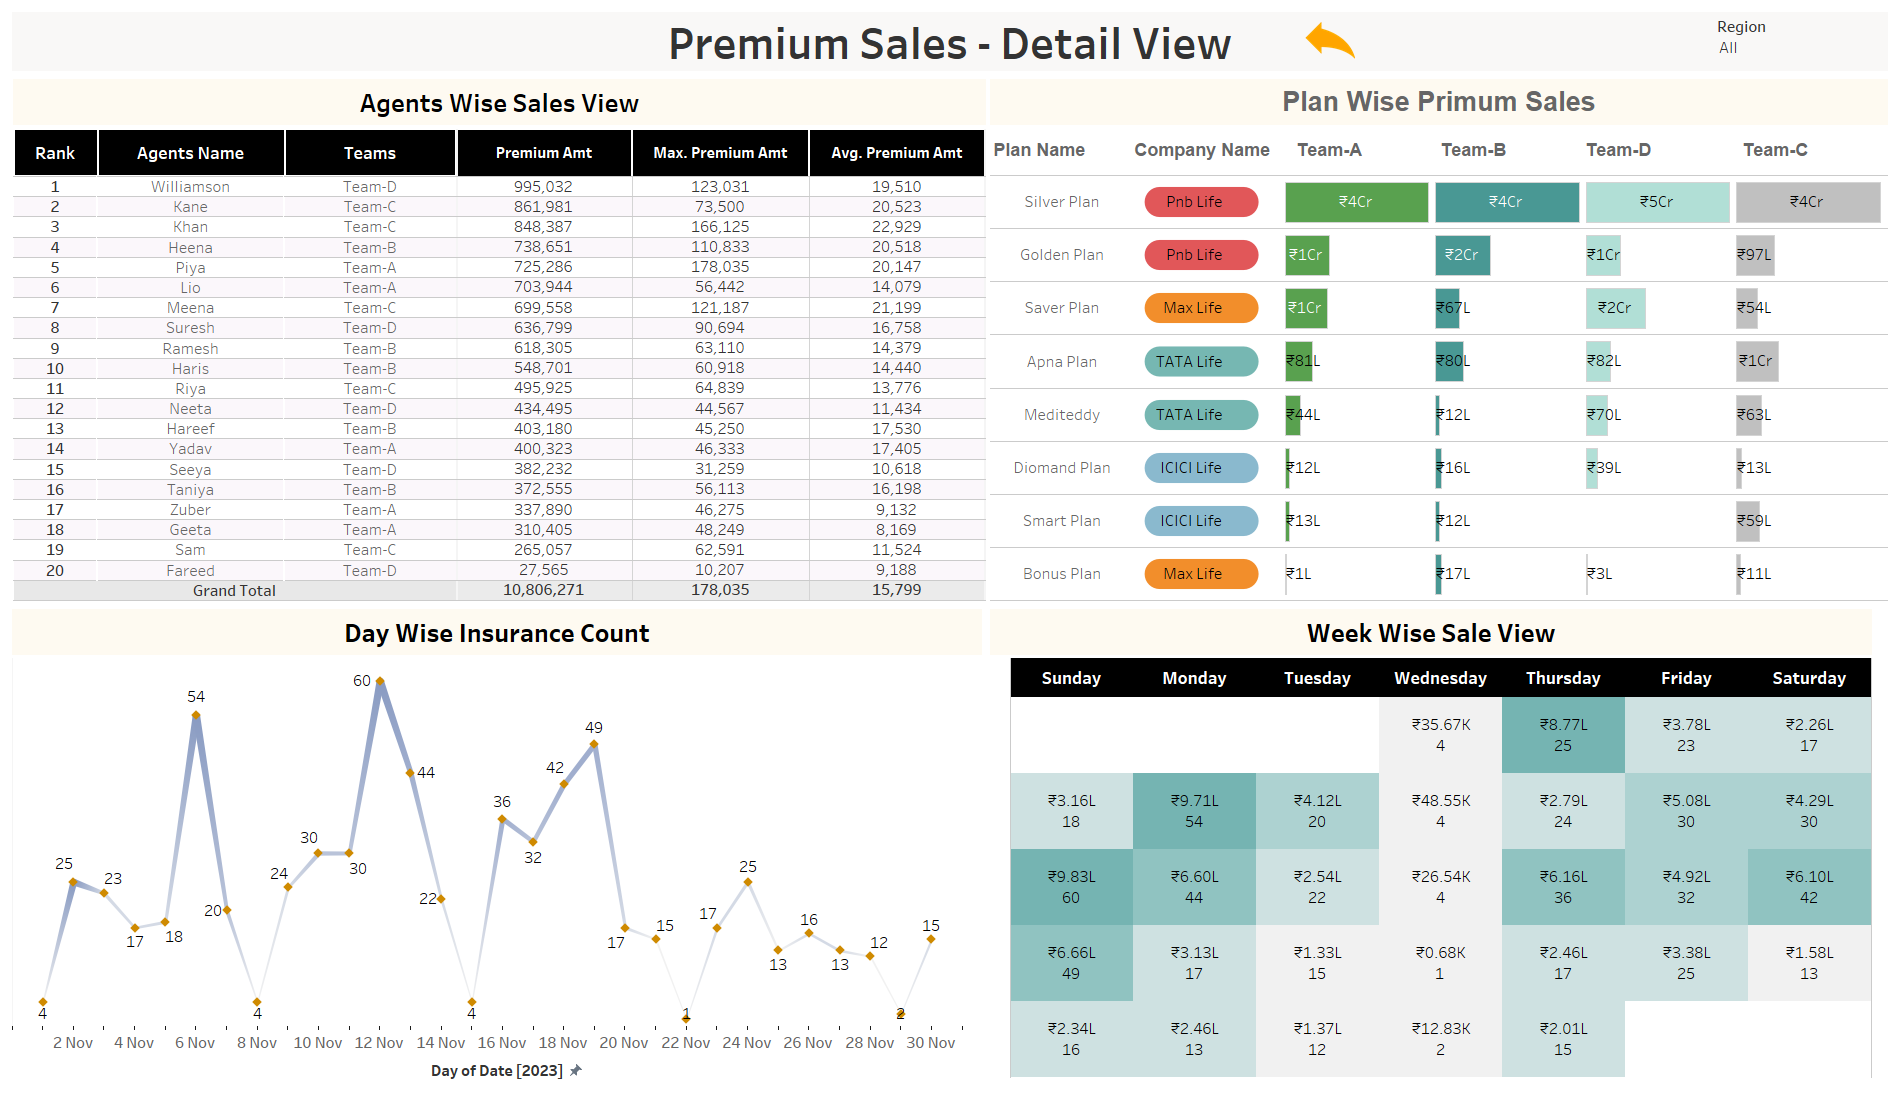

What the dashboard file says about the page in this screenshot:
{"tool":"tableau","page":{"name":"Agents and Day wise (2)","canvas":[1900,1100],"ordinal":0},"visuals":[{"type":"title","box":[8,8,1884,67]},{"type":"dashboard-object","box":[1248,15,164,50]},{"type":"filter","title":"Agents (2)","param":"[federated.05op6m911i0bvi100g09i07n142y].[none:Region:nk]","box":[1717,15,168,56]},{"type":"worksheet","title":"Agents (2)","mark":"Automatic","rows":["Agents Name","Earthquake"],"box":[8,75,978,530.1]},{"type":"text","box":[986,75,906,54]},{"type":"text","box":[986,129,141,41.7]},{"type":"text","box":[1127,129,162,41.7]},{"type":"text","box":[1289,129,144,41.7]},{"type":"text","box":[1433,129,145,41.7]},{"type":"text","box":[1578,129,157,41.7]},{"type":"text","box":[1735,129,157,41.7]},{"type":"worksheet","title":"Team wise-All","mark":"Line","rows":["Plans","Calculation_412360869046951936"],"cols":["Calculation_412360869074489354","Team A - (copy)_412360869074731019","Team B- (copy)_412360869074944012","Team C- (copy)_412360869075025933"],"box":[986,170.7,906,434.4]},{"type":"worksheet","title":"Day Wise Trend","mark":"Automatic","rows":["Premium Amt","Premium Amt"],"cols":["Date"],"box":[8,605.1,978,486.9]},{"type":"worksheet","title":"WEEK DAY WISE VIEW","mark":"Square","rows":["Date","Date"],"cols":["Date","Date"],"box":[986,605.1,906,486.9]}]}

Visuals, with their boxes in screenshot pixels (x1, y1, x2, y2), scaled from the page's 1900x1100 canvas onto the 1900x1100 screenshot:
title: left=8, top=8, right=1892, bottom=75
dashboard-object: left=1248, top=15, right=1412, bottom=65
"Agents (2)" filter: left=1717, top=15, right=1885, bottom=71
"Agents (2)" worksheet: left=8, top=75, right=986, bottom=605
text: left=986, top=75, right=1892, bottom=129
text: left=986, top=129, right=1127, bottom=171
text: left=1127, top=129, right=1289, bottom=171
text: left=1289, top=129, right=1433, bottom=171
text: left=1433, top=129, right=1578, bottom=171
text: left=1578, top=129, right=1735, bottom=171
text: left=1735, top=129, right=1892, bottom=171
"Team wise-All" worksheet (Line marks): left=986, top=171, right=1892, bottom=605
"Day Wise Trend" worksheet: left=8, top=605, right=986, bottom=1092
"WEEK DAY WISE VIEW" worksheet (Square marks): left=986, top=605, right=1892, bottom=1092
